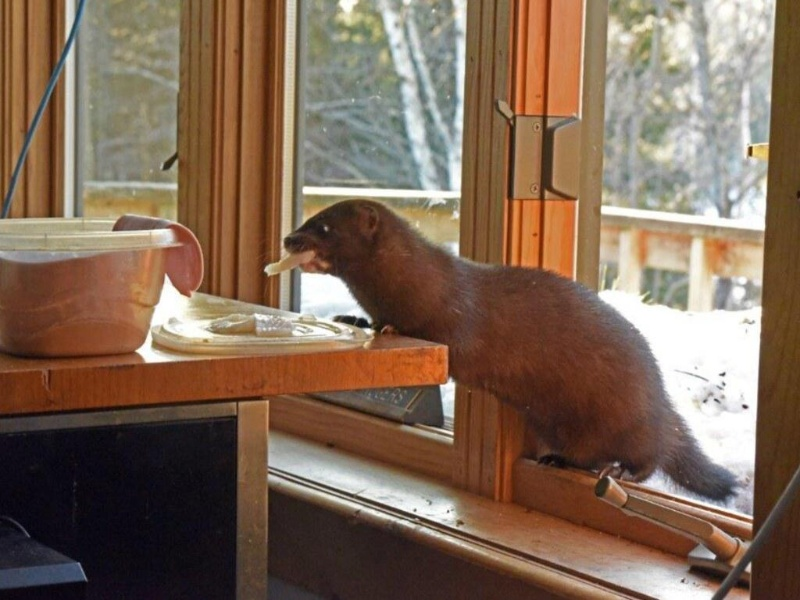minkish: (282, 197, 740, 507)
